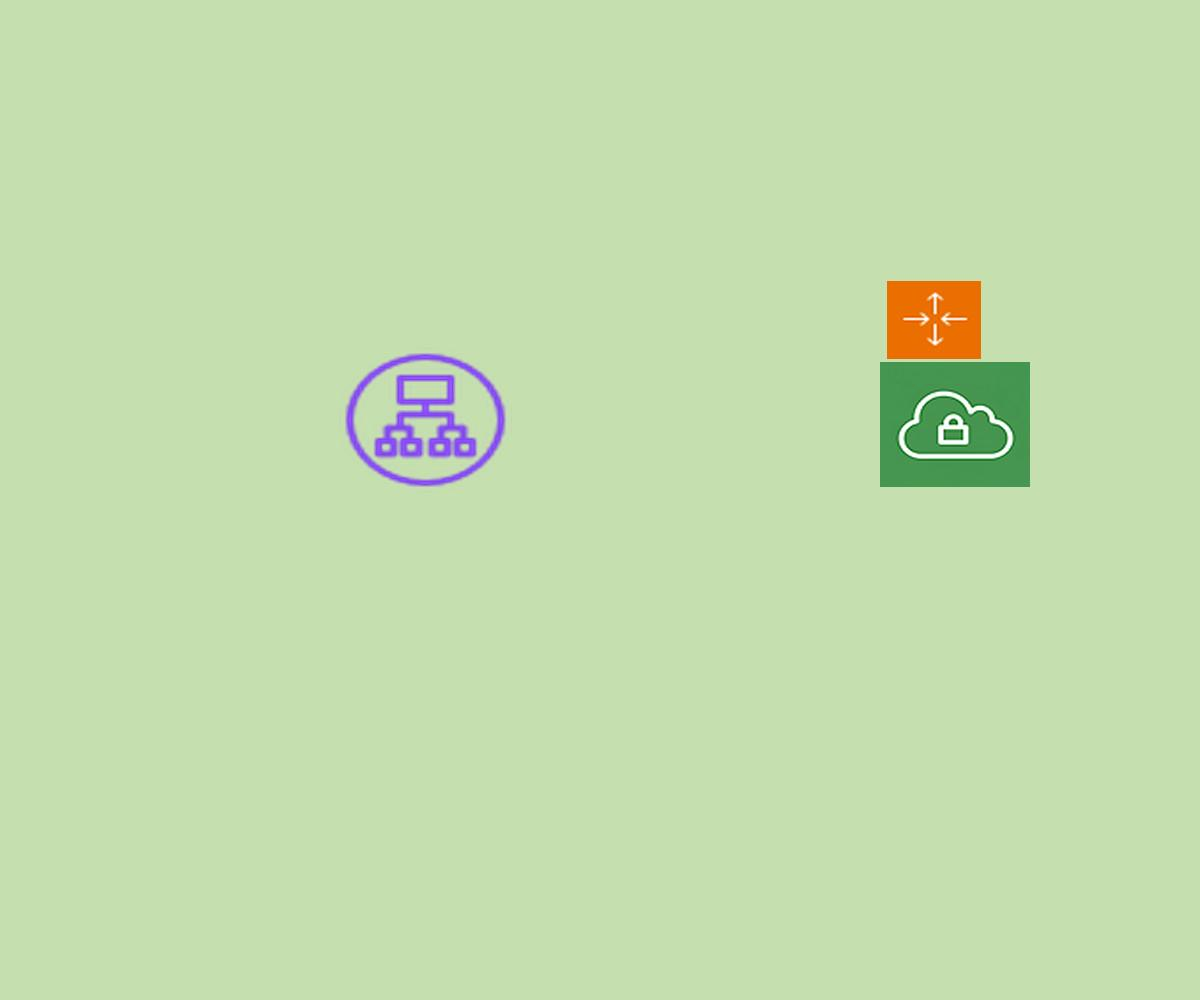AWS-Private_vpc: (880, 362, 1030, 487)
AWS-Res_Elastic-Load-Balancing_Application-Load-Balancer: (339, 348, 512, 492)
AWS-Scaling-group: (887, 281, 981, 359)
